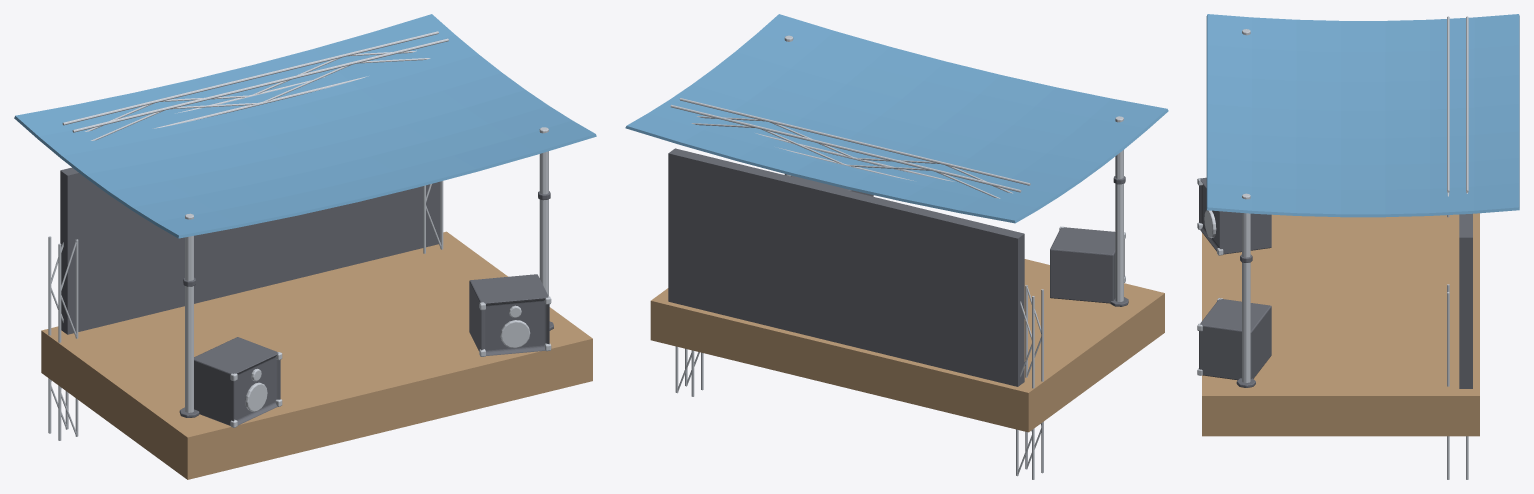
The model's file is SecondStage.fbx.
The picture shows the model from 3 angles, left to right: view 1: azimuth 30°, elevation 25°; view 2: azimuth 150°, elevation 25°; view 3: azimuth 270°, elevation 25°; orthographic projection. The views are drawn at different scales.
Parts seen in each view (by area): view 1: SecondStage_Canopy, SecondStage_Deck, SecondStage_Backwall, SecondStage_CabL, SecondStage_CabR, SecondStage_TrussTop, SecondStage_TrussL, SecondStage_PoleFL, SecondStage_PoleFR, SecondStage_TrussR; view 2: SecondStage_Canopy, SecondStage_Backwall, SecondStage_Deck, SecondStage_CabL, SecondStage_TrussTop, SecondStage_TrussL, SecondStage_PoleFL, SecondStage_TrussR; view 3: SecondStage_Canopy, SecondStage_Deck, SecondStage_CabR, SecondStage_CabL, SecondStage_Backwall, SecondStage_PoleFR, SecondStage_TrussTop, SecondStage_TrussR.
Part boxes in pixels (x1,y1,x2,y2): SecondStage_Canopy: (14, 14, 596, 238); SecondStage_Deck: (41, 231, 592, 479); SecondStage_Backwall: (60, 167, 440, 334); SecondStage_CabL: (194, 337, 282, 427); SecondStage_CabR: (469, 274, 551, 356); SecondStage_TrussTop: (62, 31, 448, 140); SecondStage_TrussL: (48, 236, 78, 440); SecondStage_PoleFL: (179, 213, 199, 417); SecondStage_PoleFR: (538, 127, 553, 330); SecondStage_TrussR: (423, 181, 443, 253); SecondStage_Canopy: (625, 14, 1168, 223); SecondStage_Backwall: (668, 148, 1024, 386); SecondStage_Deck: (650, 259, 1164, 432); SecondStage_CabL: (1050, 226, 1125, 303); SecondStage_TrussTop: (670, 98, 1030, 198); SecondStage_TrussL: (1016, 285, 1043, 479); SecondStage_PoleFL: (1110, 116, 1128, 306); SecondStage_TrussR: (675, 346, 703, 396); SecondStage_Canopy: (1206, 14, 1519, 217); SecondStage_Deck: (1202, 213, 1479, 436); SecondStage_CabR: (1197, 298, 1271, 380); SecondStage_CabL: (1197, 177, 1271, 255); SecondStage_Backwall: (1459, 213, 1472, 388); SecondStage_PoleFR: (1236, 193, 1255, 387); SecondStage_TrussTop: (1447, 16, 1468, 196); SecondStage_TrussR: (1447, 284, 1468, 479).
Size of the model in its own units: 826 by 581 by 579.
